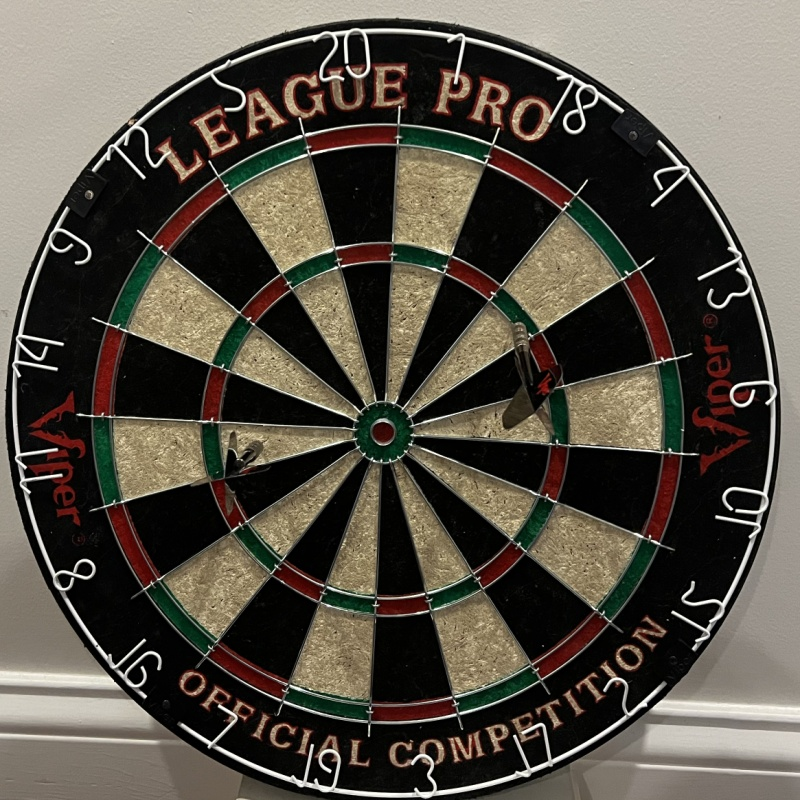dart: (500, 313, 538, 353), (245, 432, 272, 461)
eleven: (14, 444, 63, 492)
six: (728, 379, 778, 406)
three: (409, 753, 443, 796)
twenty: (313, 27, 374, 83)
